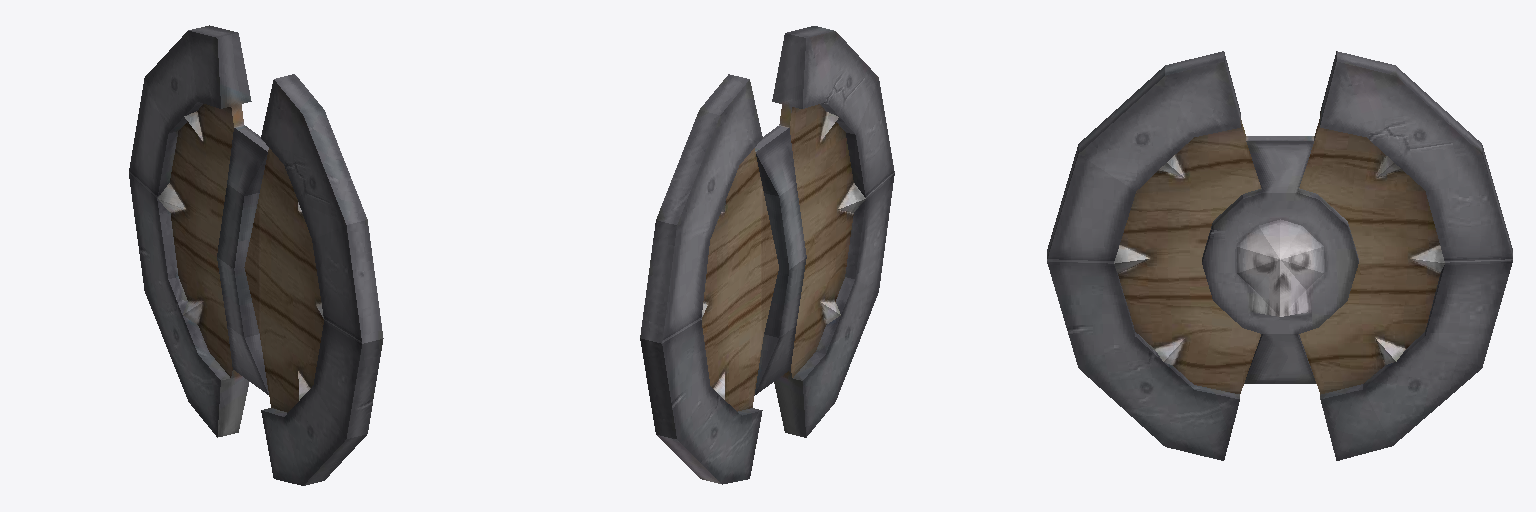
The picture shows the model from 3 angles: view 1: azimuth 30°, elevation 25°; view 2: azimuth 150°, elevation 25°; view 3: azimuth 270°, elevation 25°; orthographic projection.
Visible parts, largest first — view 1: shield; view 2: shield; view 3: shield.
Boxes of the visible parts, x1=… form: shield: x1=129, y1=25, x2=383, y2=485; shield: x1=640, y1=26, x2=894, y2=484; shield: x1=1047, y1=51, x2=1512, y2=460.
Bounding box in the file's own units: 0.2955 × 1.87 × 1.97.
Materials: 1 (1 with a texture image).